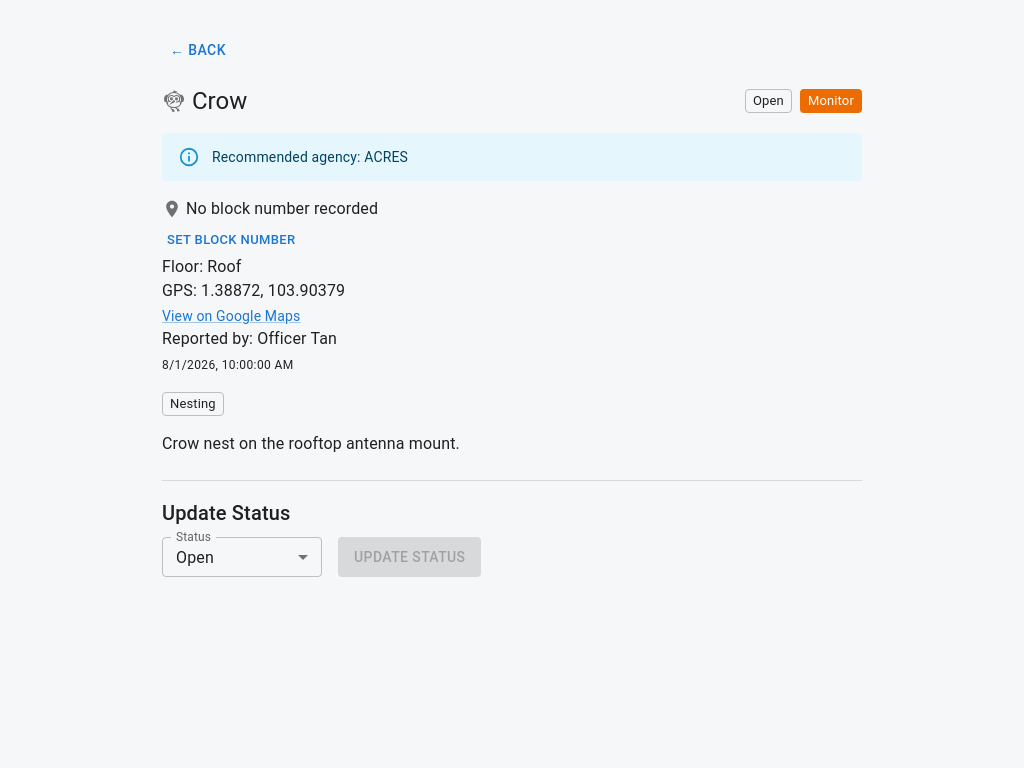
Test: FaunaSightingDetail - setting a block on a blockless sighting › joins an array of validation messages from the API
The image size is (1024, 768).
Click the button "Set block number": click(231, 240) [162,224,300,255]
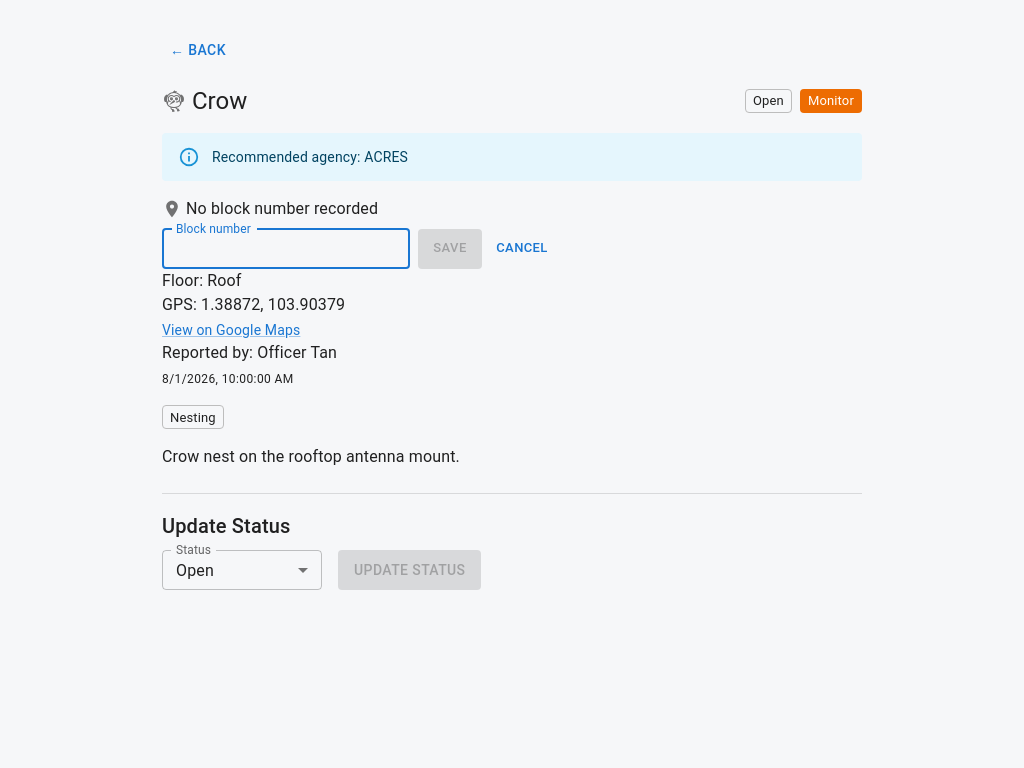
In the field labelled "Block number": (286, 248) [162,228,410,268], type "Block 305"
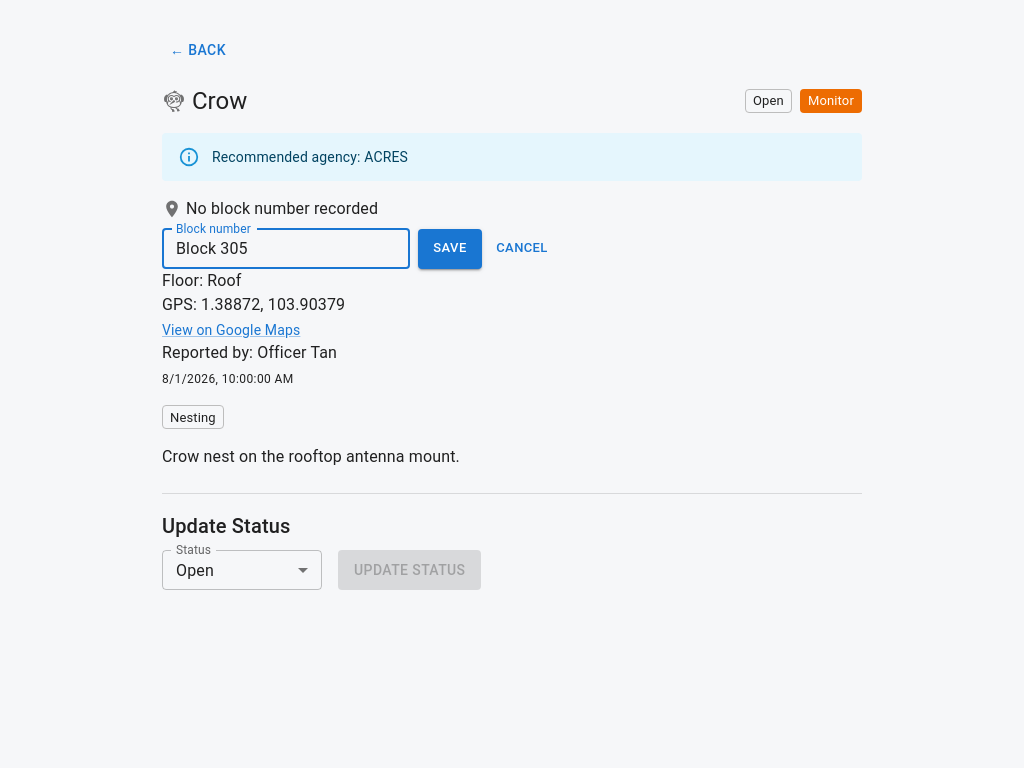
Click the button "Save": click(450, 248) [418,228,482,268]
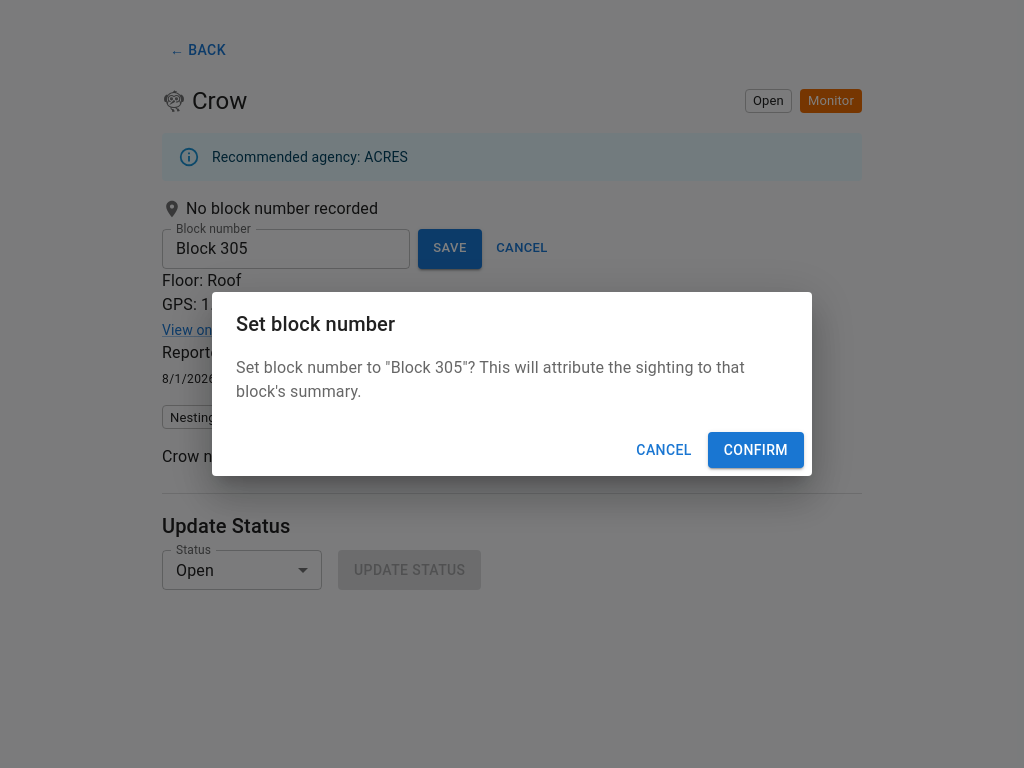
Click the button "Confirm": click(756, 450) [708,432,804,468]
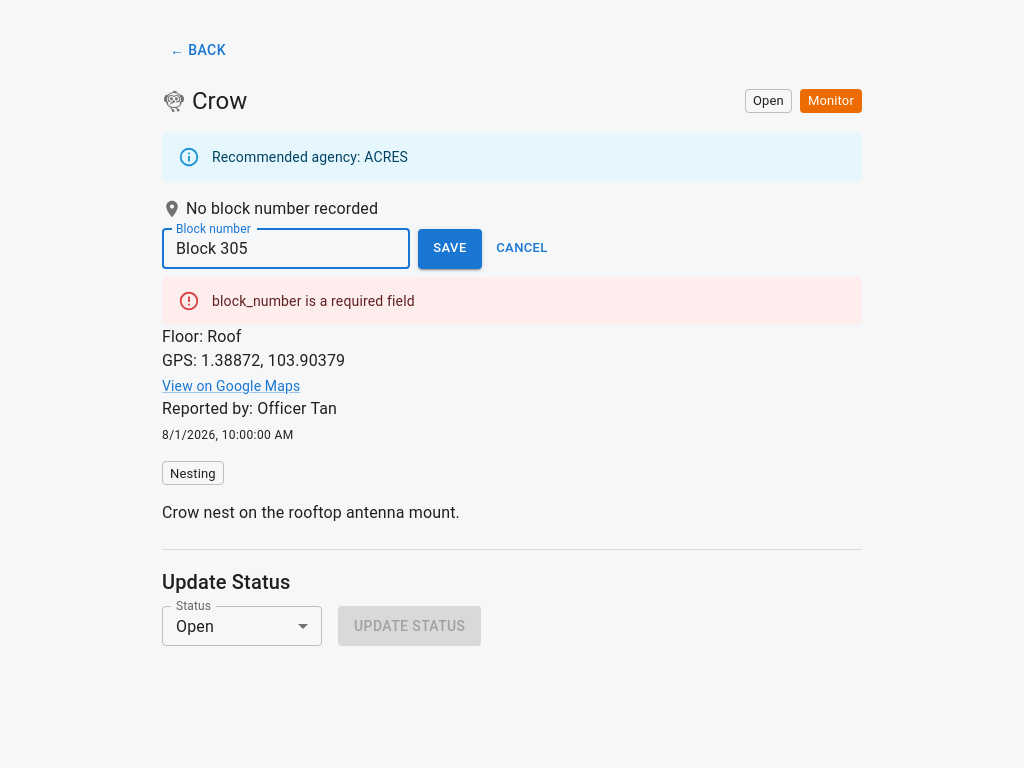
Expected: the text "block_number is a required field" is shown, [212,292,415,308]
